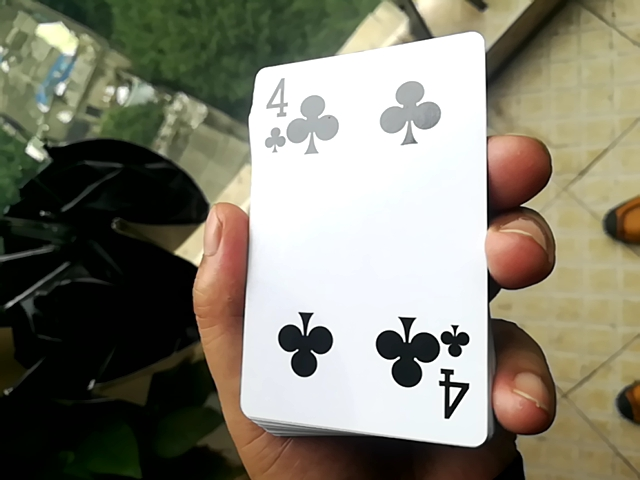mh 4: (242, 18, 480, 452)
